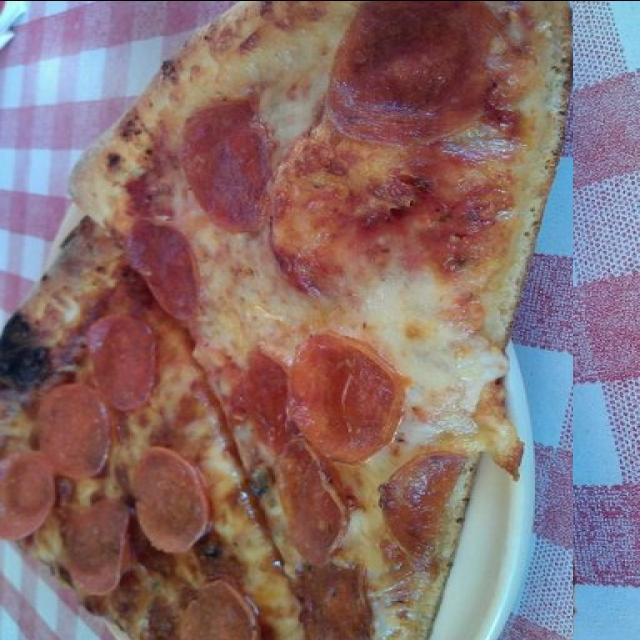pepperoni: (324, 498, 503, 640), (282, 177, 404, 311), (178, 410, 270, 535), (382, 76, 468, 189), (277, 76, 346, 200), (131, 90, 210, 194), (126, 319, 199, 420), (32, 164, 114, 252), (86, 233, 157, 325), (61, 44, 132, 136), (0, 102, 59, 190), (174, 0, 261, 58)
pizza: (0, 0, 573, 640)
